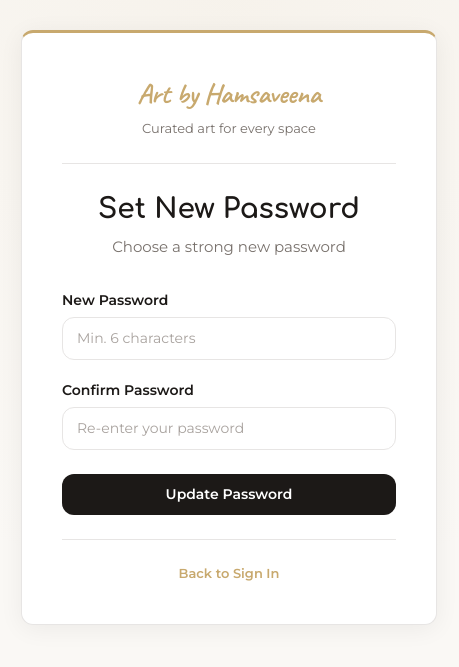
Test: ResetPasswordForm › shows error when password is too short
The width and height of the screenshot is (459, 667).
Step 1. Type "12345" into the password field labelled "New Password" → (229, 338), box [62, 317, 396, 360]
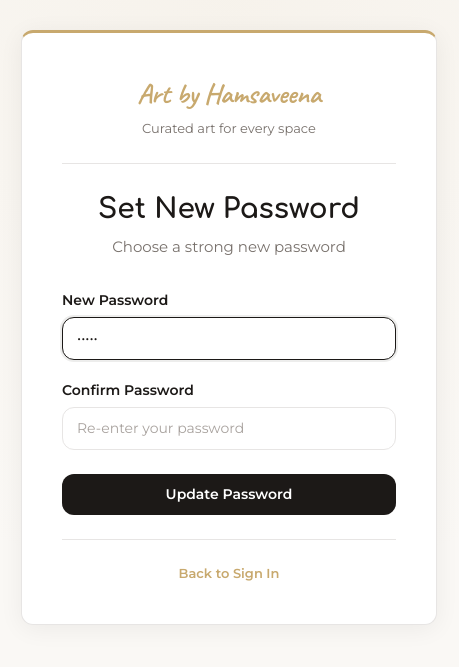
Step 2. Type "12345" into the password field labelled "Confirm Password" → (229, 428), box [62, 407, 396, 450]
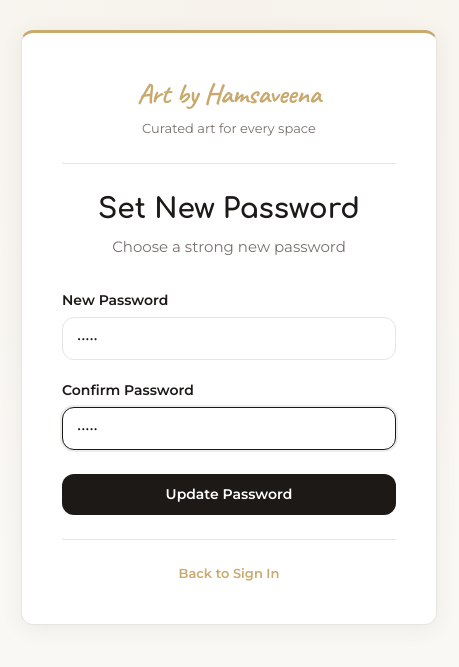
Step 3. Click the button "Update Password" → (229, 494), box [62, 474, 396, 515]
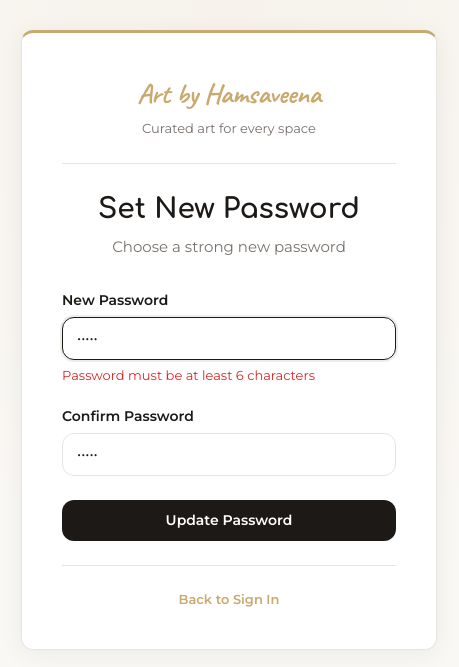
Expected: the text "Password must be at least 6 characters" is shown, [62, 367, 315, 383]
